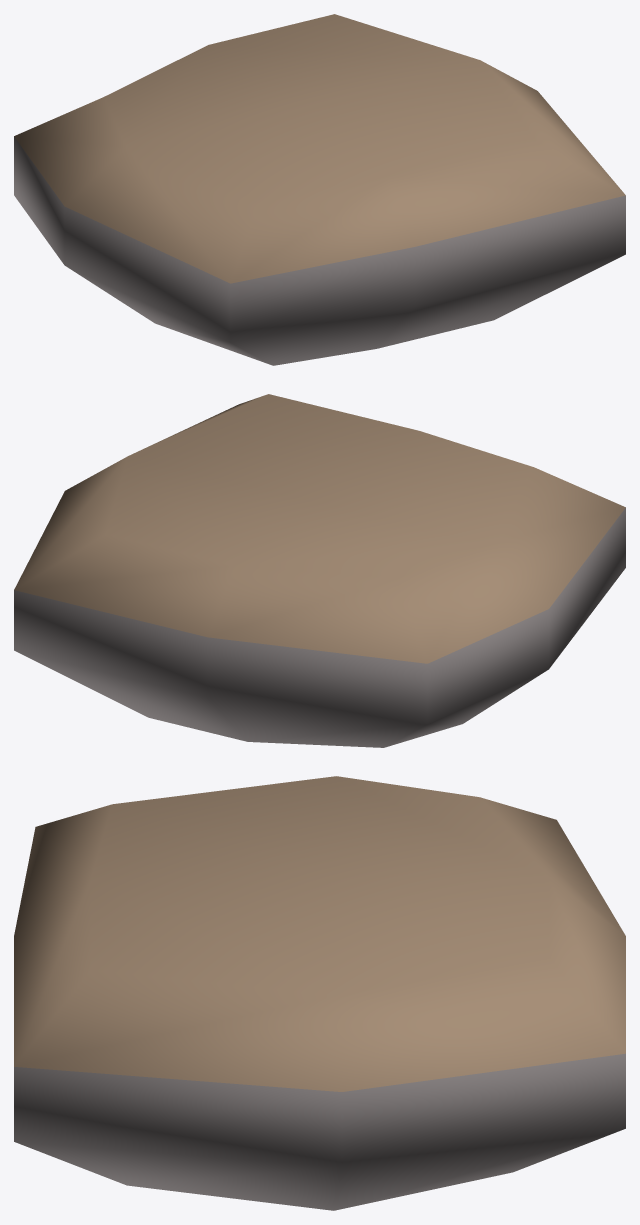
Rendered from Schwebestein_.fbx.
3 renders of one model, top to bottom at view 1: azimuth 30°, elevation 25°; view 2: azimuth 150°, elevation 25°; view 3: azimuth 270°, elevation 25°, orthographic. The views are drawn at different scales.
Parts seen in each view (by area): view 1: Schwebestein_; view 2: Schwebestein_; view 3: Schwebestein_.
Part boxes in pixels (x1,y1,x2,y2): Schwebestein_: [14, 14, 625, 365]; Schwebestein_: [14, 394, 625, 747]; Schwebestein_: [14, 776, 625, 1210].
Bounding box in the file's own units: 602 × 222 × 531.
